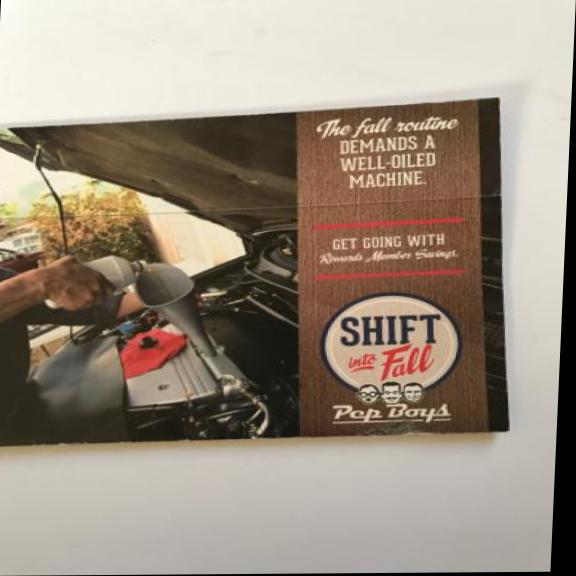Kertas: (0, 93, 530, 460)
